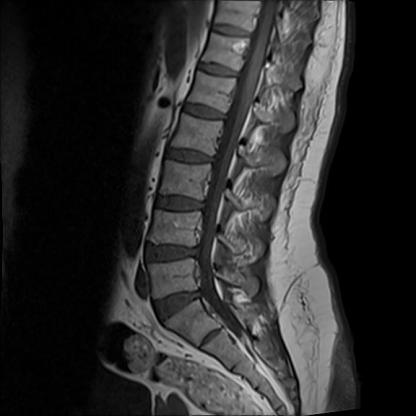Disc Bulgerotation: (151, 288, 209, 323), (141, 237, 204, 269)
